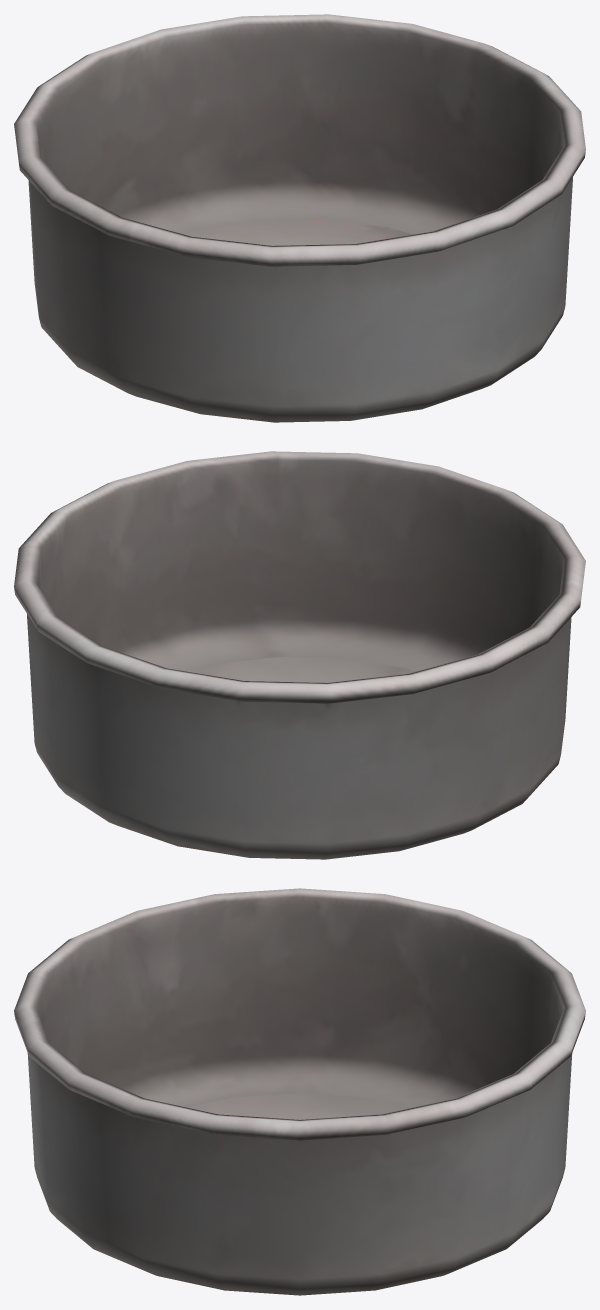
The model's file is SM_SaucePan_Steel_Pot_02.fbx.
3 views of the same model, one above another, from view 1: azimuth 30°, elevation 25°; view 2: azimuth 150°, elevation 25°; view 3: azimuth 270°, elevation 25° (orthographic).
Parts seen in each view (by area): view 1: SM_SaucePan_Steel_Pot_02_LOD0; view 2: SM_SaucePan_Steel_Pot_02_LOD0; view 3: SM_SaucePan_Steel_Pot_02_LOD0.
Boxes of the visible parts, x1=… form: SM_SaucePan_Steel_Pot_02_LOD0: x1=14, y1=14, x2=585, y2=422; SM_SaucePan_Steel_Pot_02_LOD0: x1=14, y1=451, x2=585, y2=859; SM_SaucePan_Steel_Pot_02_LOD0: x1=14, y1=888, x2=585, y2=1295.
Bounding box in the file's own units: 23.15 × 23.15 × 8.64.
Materials: 1 (1 with a texture image).
